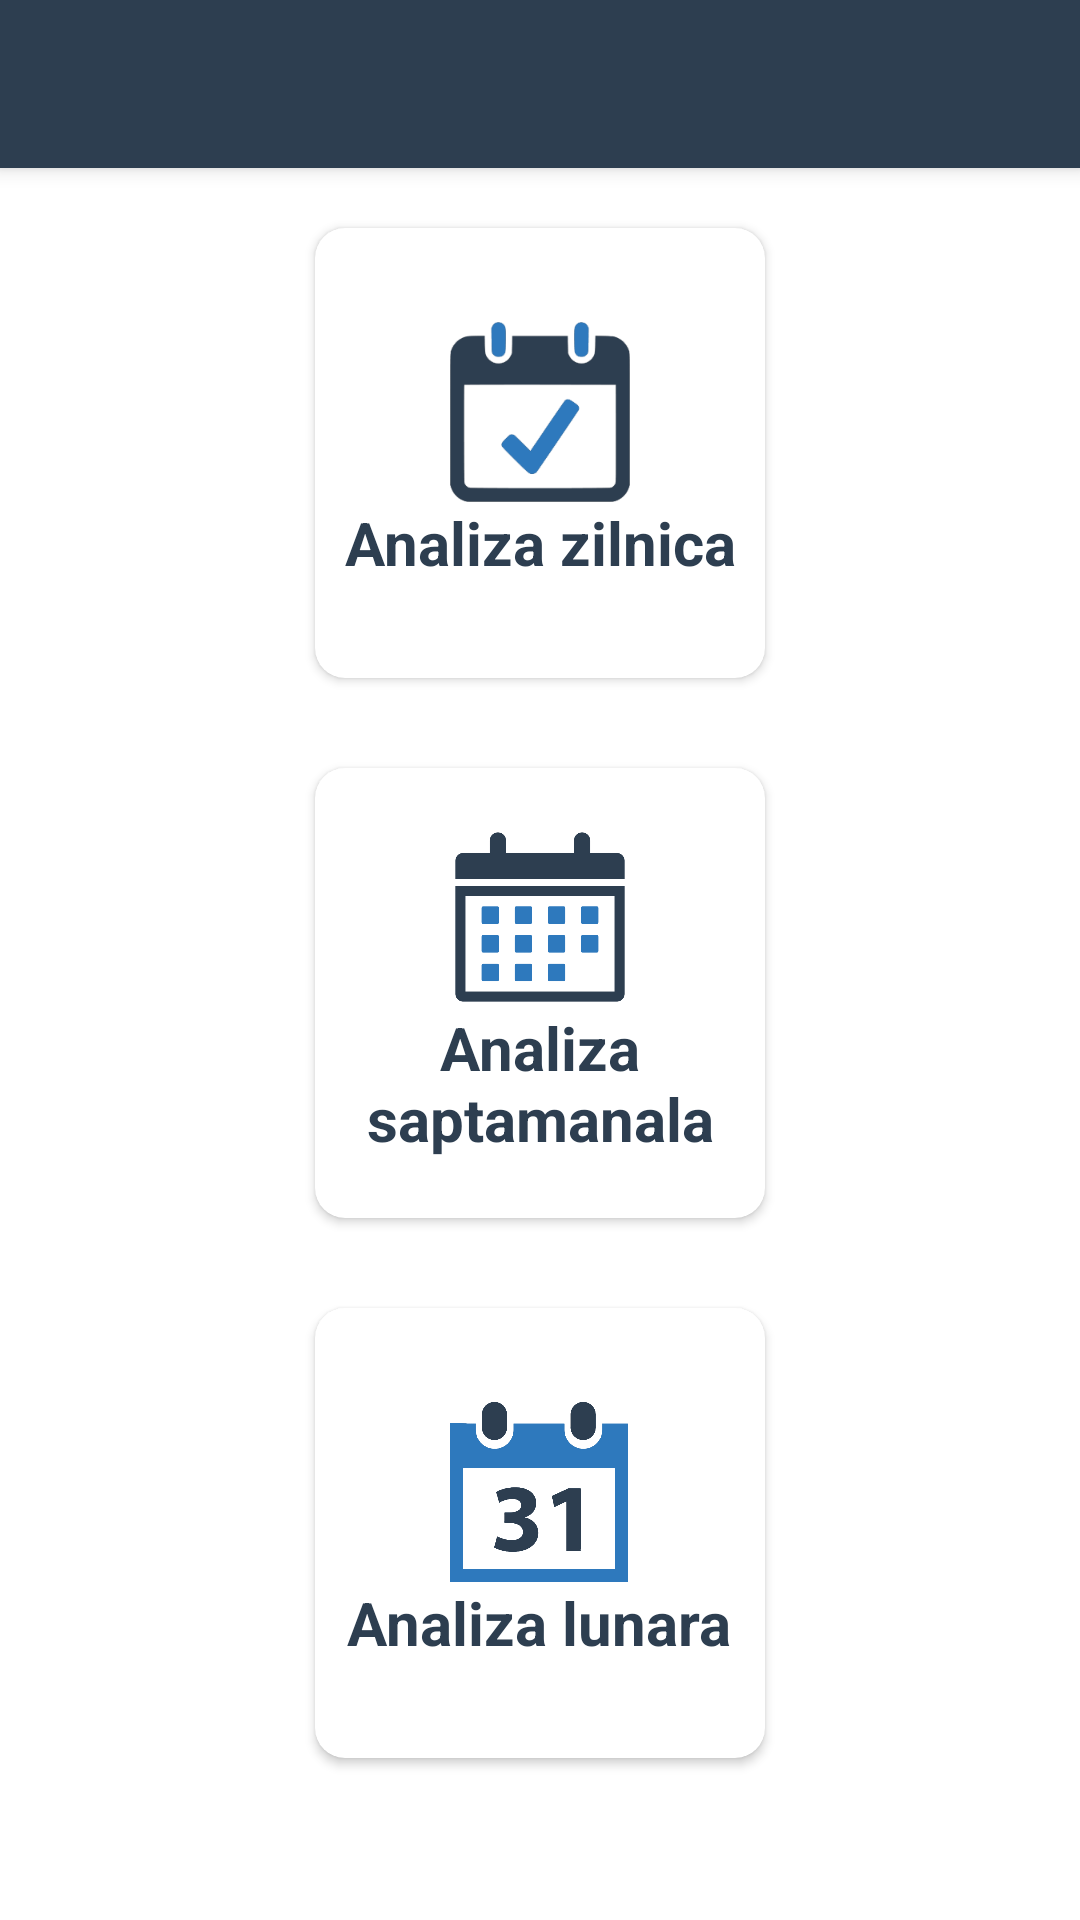

Named icons in this screenshot (1080×1920) and their bounding boxes, [x1,y1,x2,y2]:
today: [450,322,630,502]
week: [455,832,625,1002]
